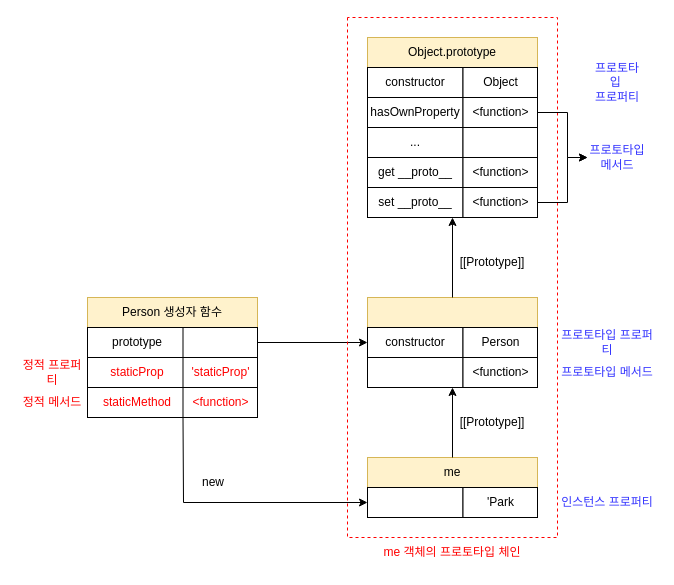
This 674x585 diagram has some shape labels left out. Each missing label, with the box of its shape:
name: (366, 486, 463, 518)
Person.prototype: (366, 296, 538, 328)
sayHello: (366, 356, 463, 388)
